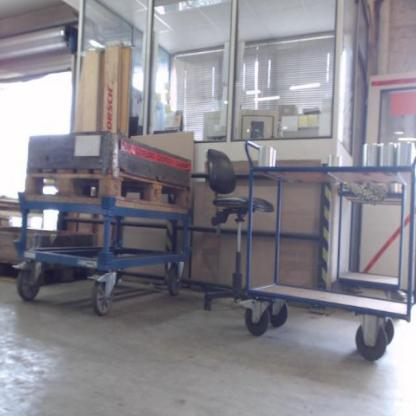pallet: (26, 160, 192, 215), (0, 258, 96, 286)
